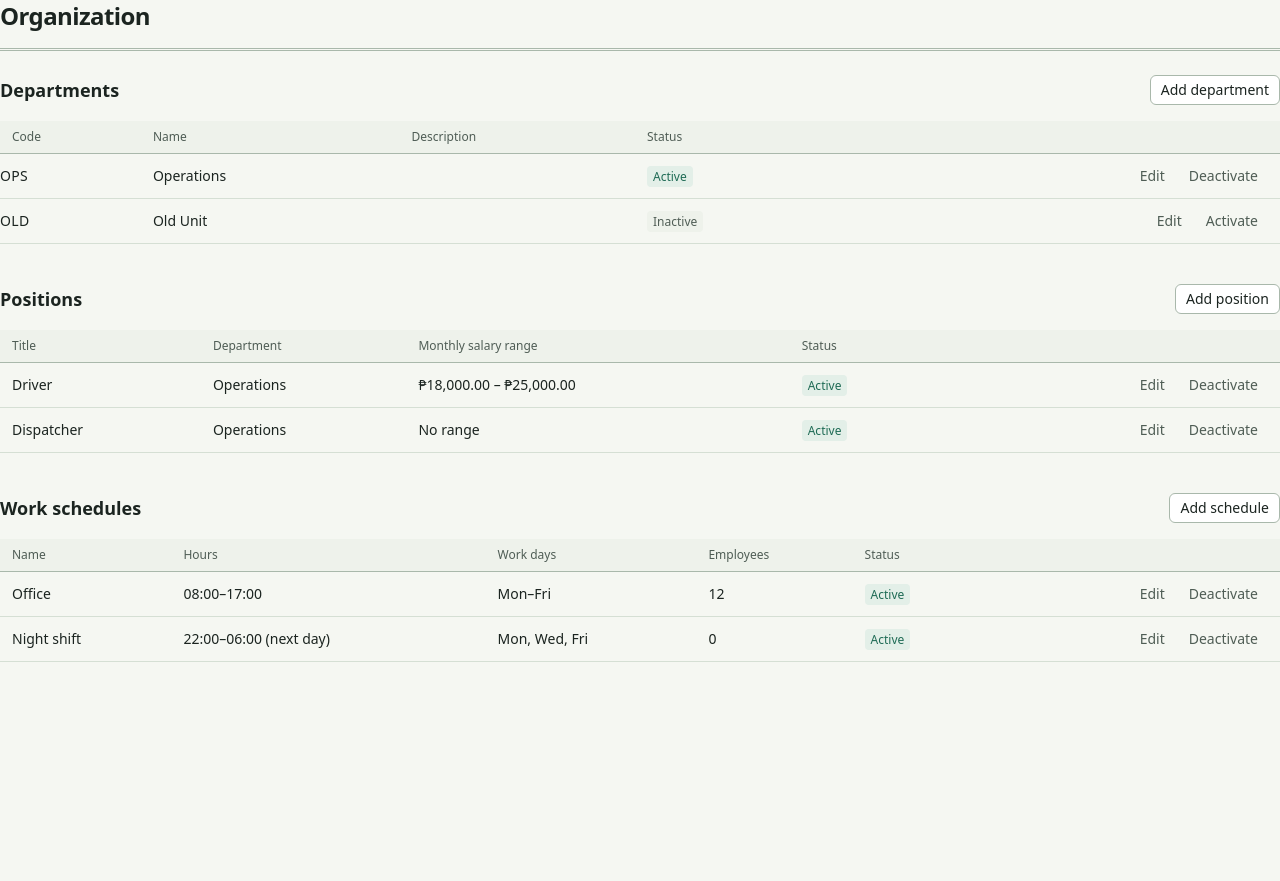
it: OrganizationPage › shows the backend's message next to the field it names
Expected: the row "OPS Operations Active Edit Deactivate" is shown, x1=0 y1=154 x2=1279 y2=198
Click the button "Add department": (1215, 90) x1=1150 y1=75 x2=1279 y2=105
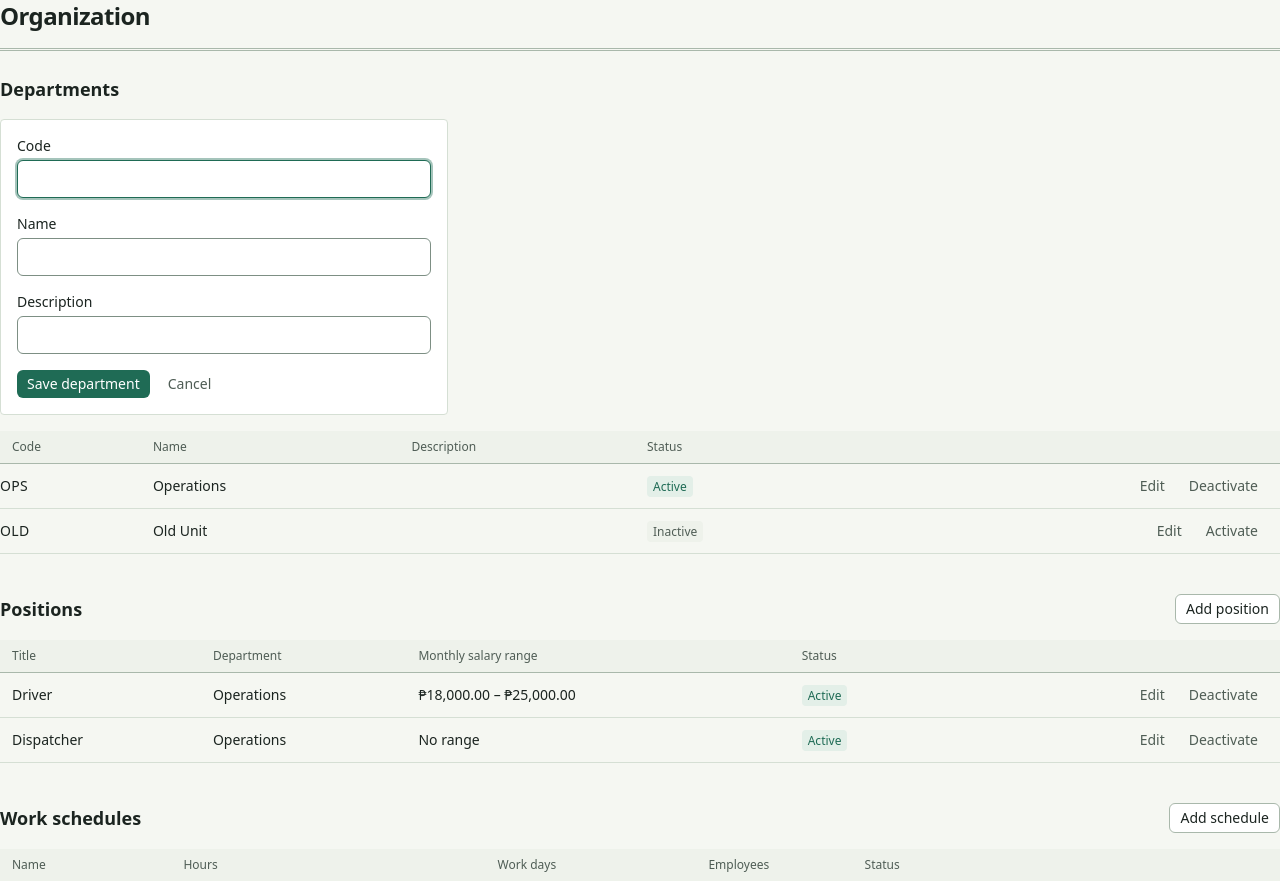
In the field labelled "Code": (224, 179) x1=17 y1=160 x2=431 y2=198, type "OPS"
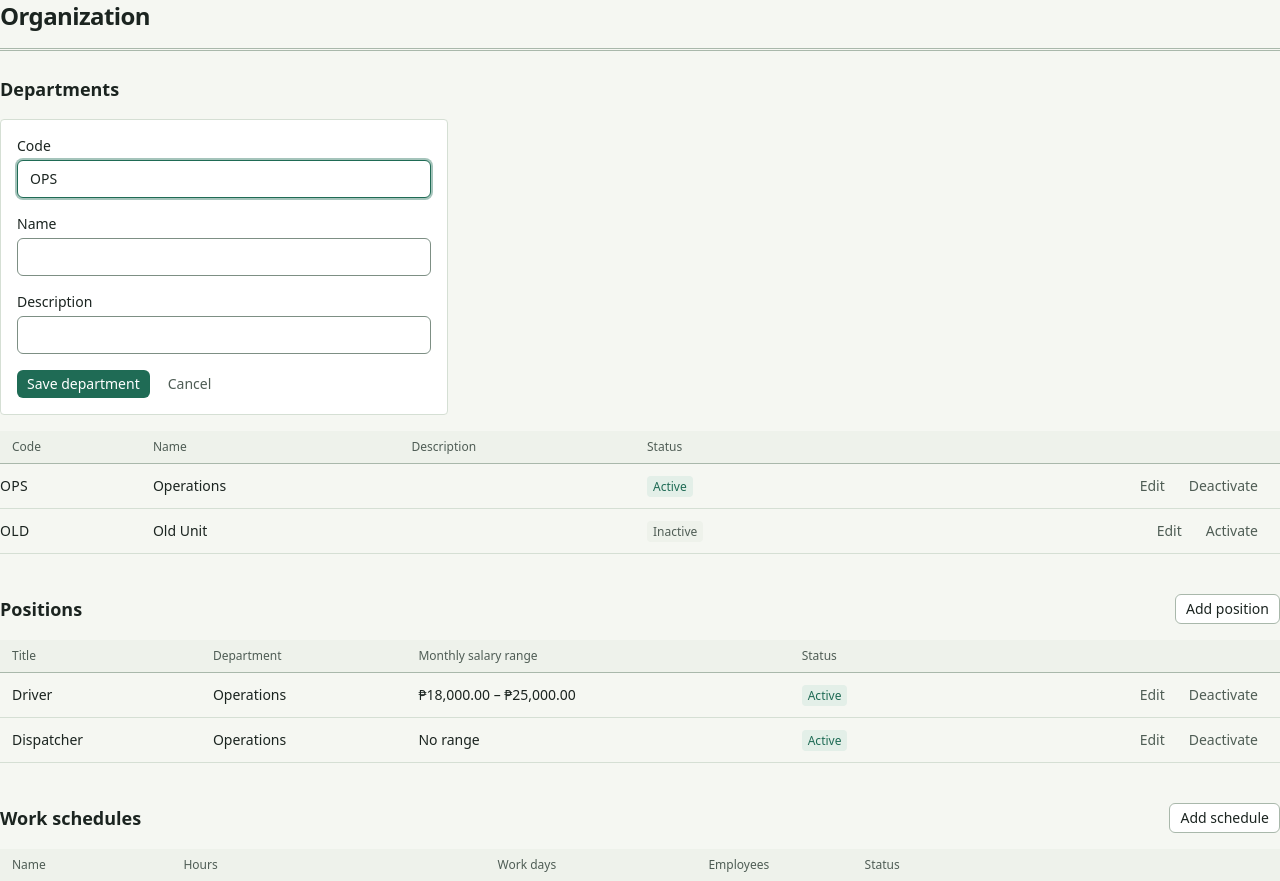
In the field labelled "Name": (224, 257) x1=17 y1=238 x2=431 y2=276, type "Ops again"
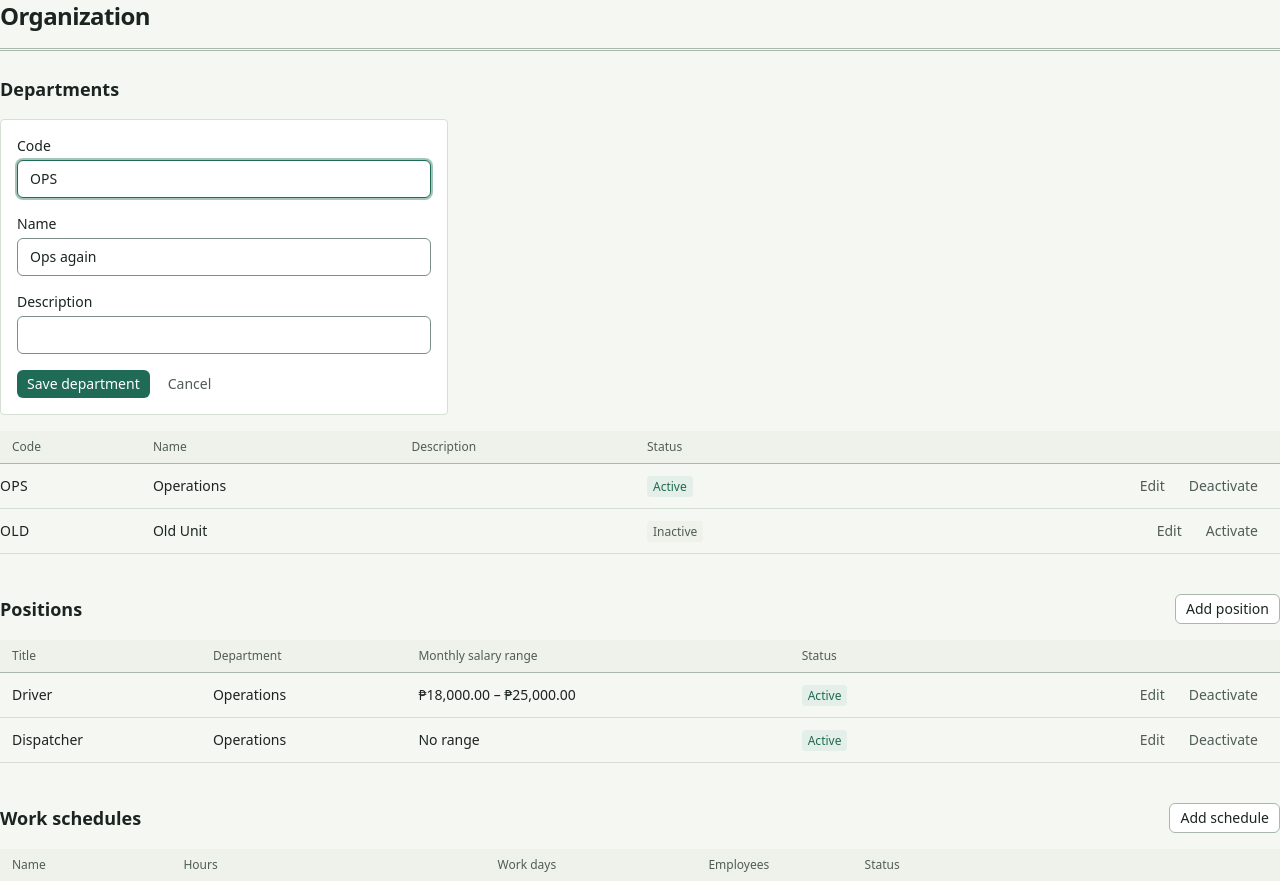
Click the button "Save department": (83, 384) x1=17 y1=370 x2=150 y2=398
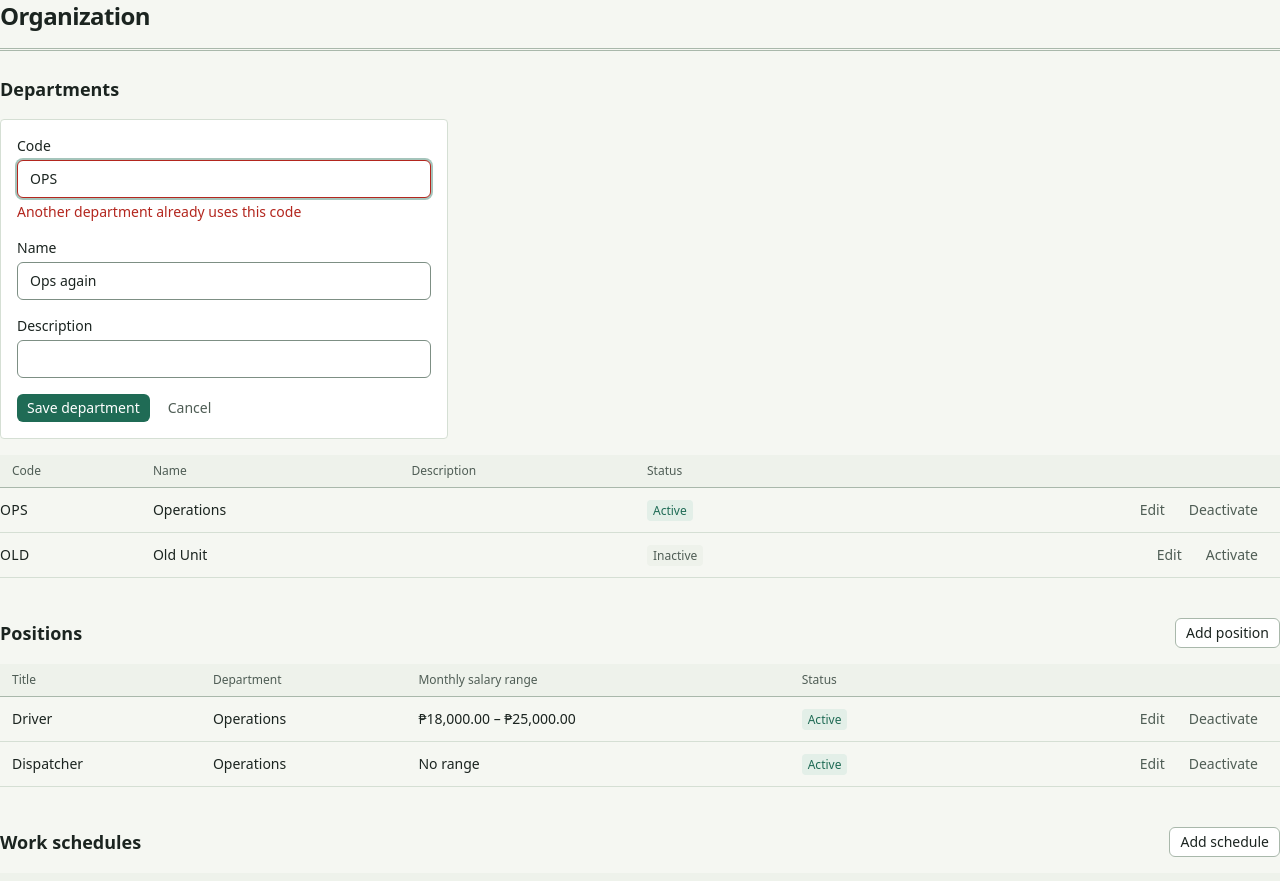
Expected: the text "Another department already uses this code" is shown, x1=17 y1=202 x2=301 y2=221
